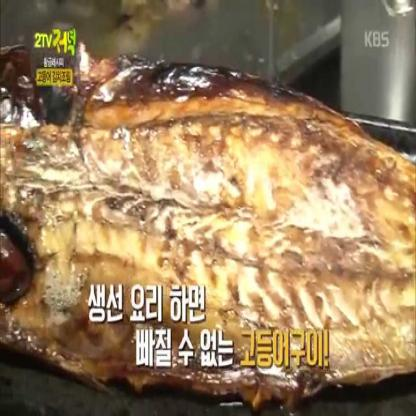Peixe: (0, 42, 416, 416)
